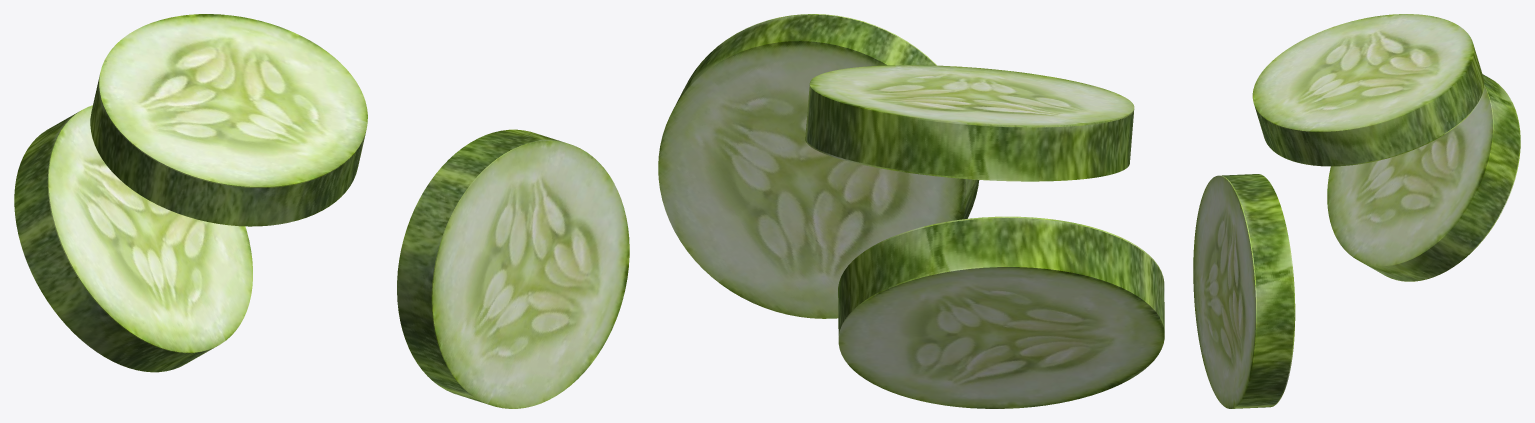
The model's file is cucumber99new.glb.
The picture shows the model from 3 angles, left to right: view 1: azimuth 30°, elevation 25°; view 2: azimuth 150°, elevation 25°; view 3: azimuth 270°, elevation 25°; orthographic projection. The views are drawn at different scales.
Parts seen in each view (by area): view 1: mesh_id57, mesh_id27, mesh_id48; view 2: mesh_id57, mesh_id48, mesh_id27; view 3: mesh_id27, mesh_id48, mesh_id57.
Part boxes in pixels (left/top/right/bottom): mesh_id57: left=397, top=129, right=629, bottom=408; mesh_id27: left=90, top=14, right=367, bottom=226; mesh_id48: left=14, top=105, right=252, bottom=372; mesh_id57: left=658, top=14, right=979, bottom=318; mesh_id48: left=838, top=216, right=1164, bottom=408; mesh_id27: left=805, top=65, right=1134, bottom=181; mesh_id27: left=1252, top=14, right=1484, bottom=166; mesh_id48: left=1327, top=74, right=1520, bottom=281; mesh_id57: left=1193, top=174, right=1295, bottom=408.
Bounding box in the file's own units: 0.4241 × 0.2575 × 0.2854.
1 material, 1 textured.
